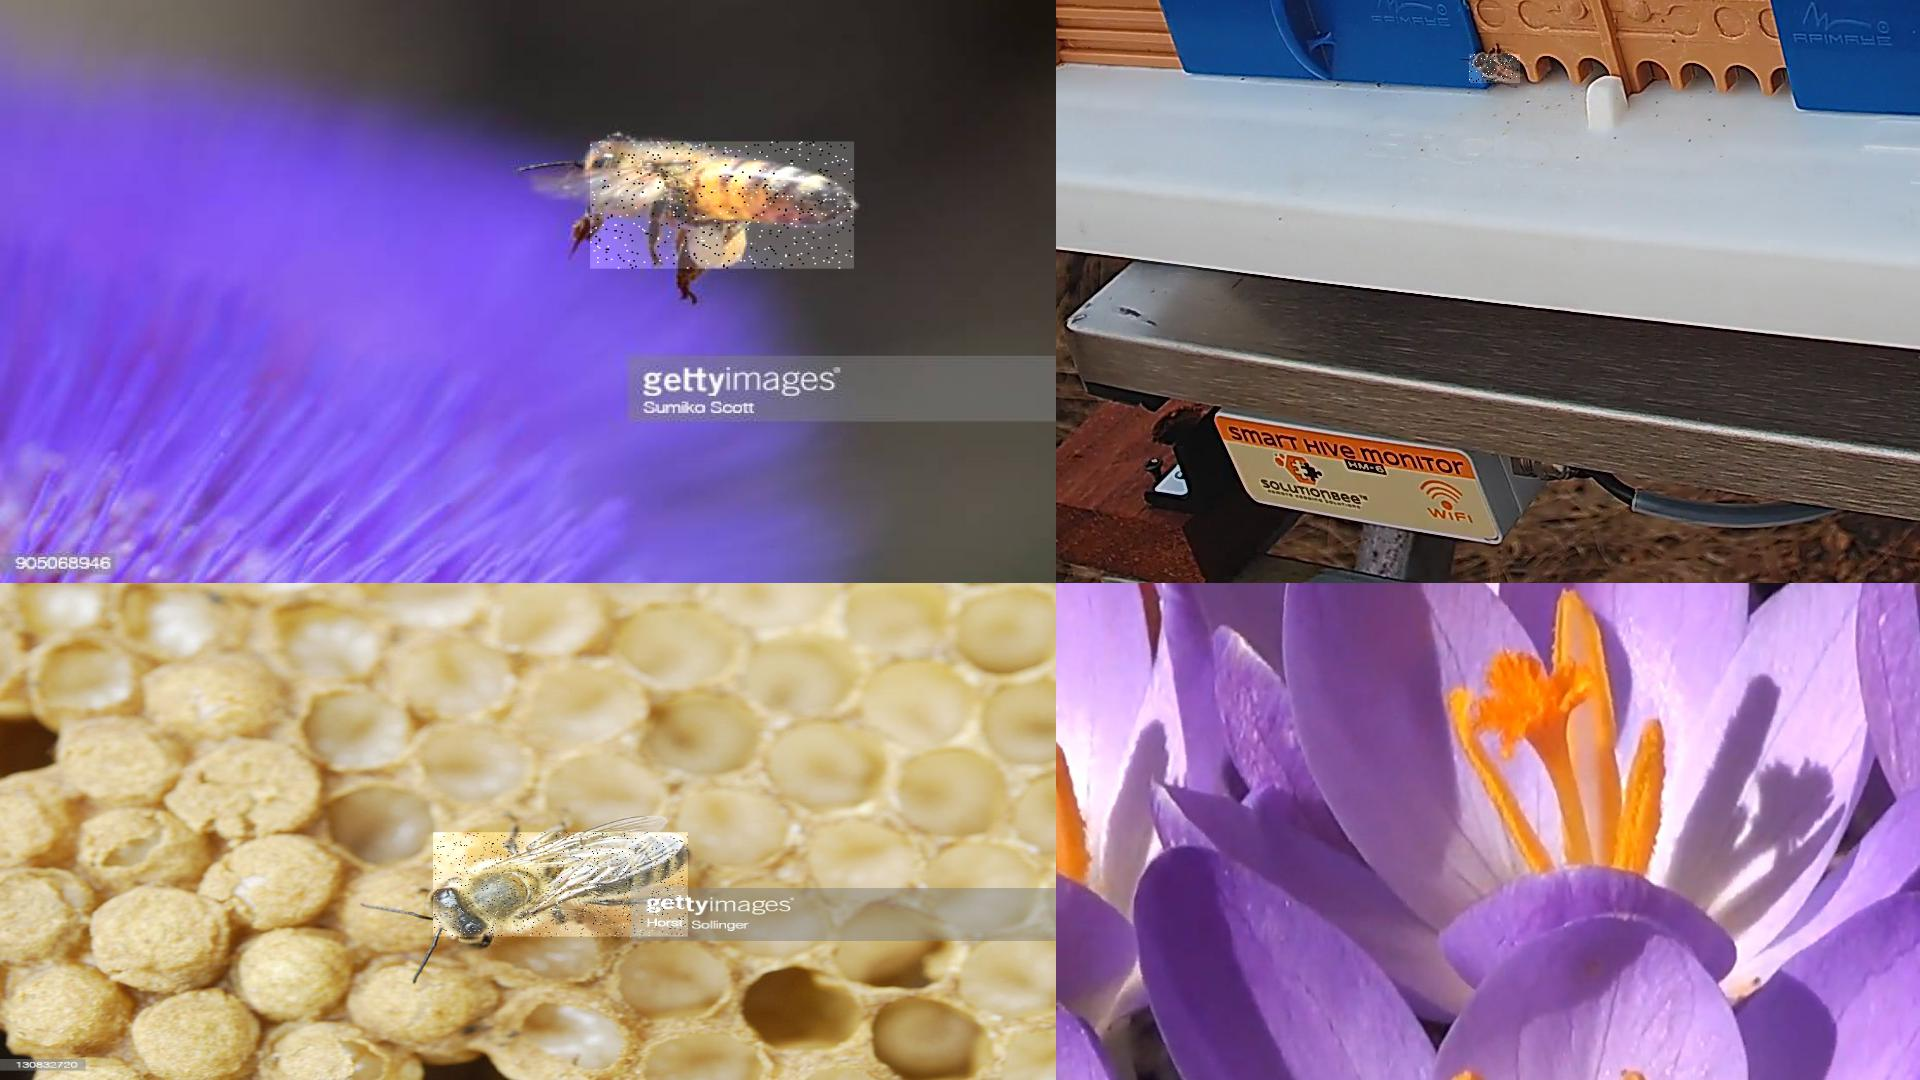bee: (433, 833, 688, 939), (1469, 54, 1522, 84)
pollenbee: (589, 141, 856, 270)
